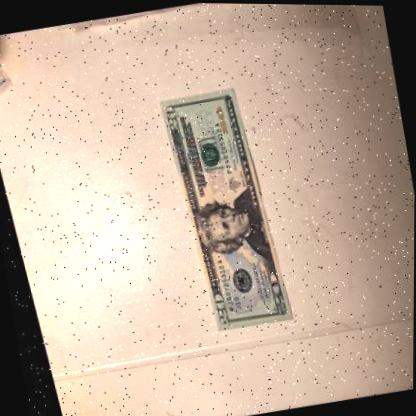dollar_front: (156, 83, 289, 334)
